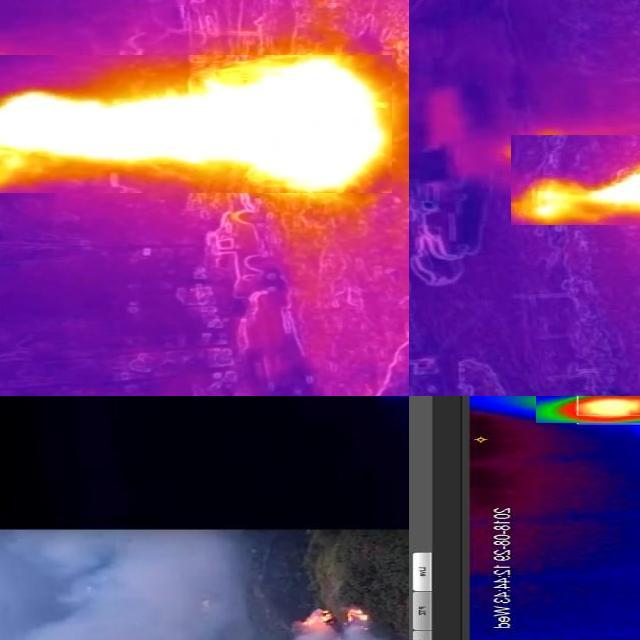fire: (1, 56, 392, 194), (511, 164, 640, 226), (536, 397, 640, 424)
